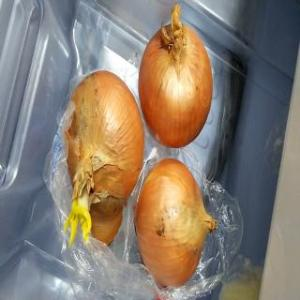onion: (62, 67, 144, 245), (133, 158, 217, 288), (140, 5, 212, 149)
